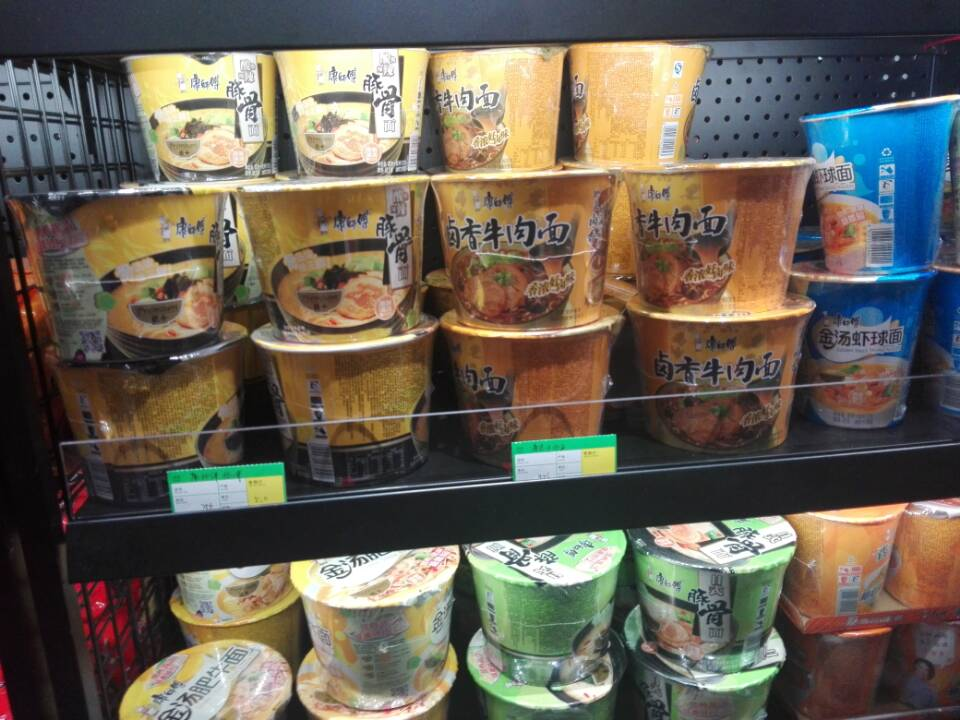luxiang: (429, 170, 623, 333), (626, 158, 816, 314), (438, 332, 624, 471), (631, 315, 811, 455), (568, 43, 711, 168), (427, 46, 569, 171)
